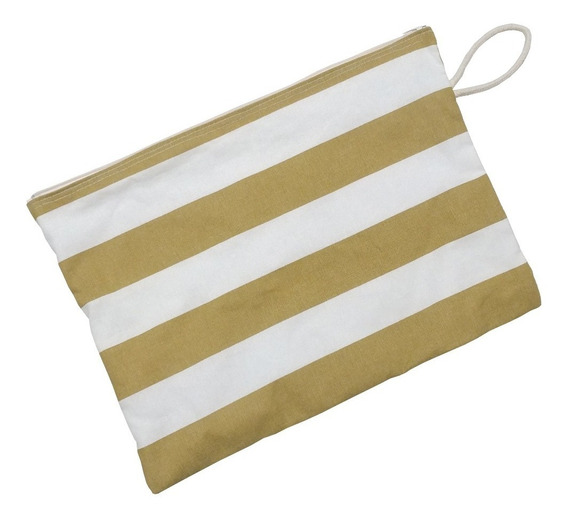cartera: (21, 19, 545, 496)
